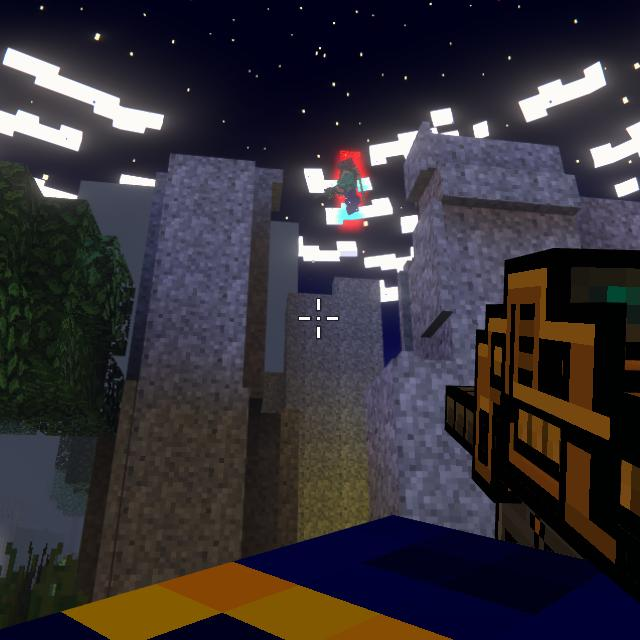Enemy: (337, 157, 369, 216)
